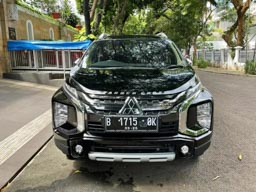plat: (104, 115, 158, 125)
